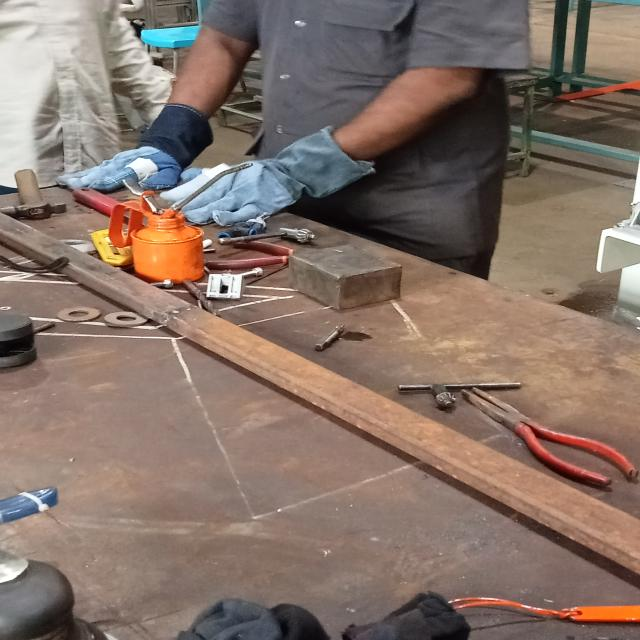Gloves-Detection: (62, 103, 380, 199)
